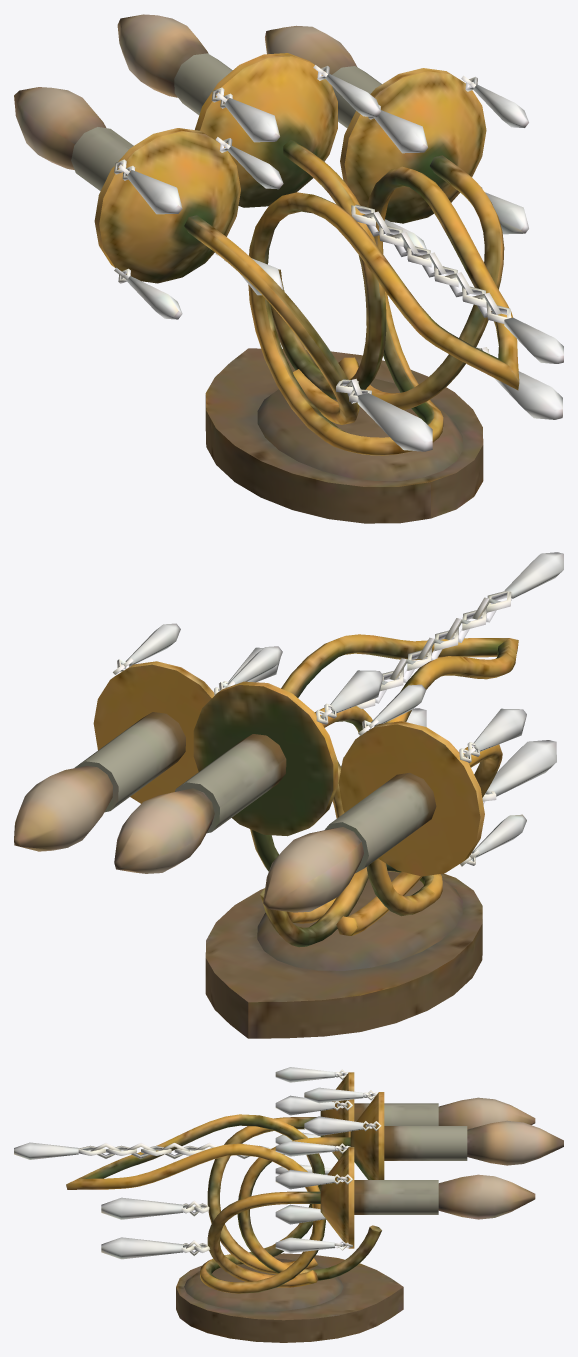
Rendered from SM_Chandelier02_8bf571.glb.
The picture shows the model from 3 angles, top to bottom: view 1: azimuth 30°, elevation 25°; view 2: azimuth 150°, elevation 25°; view 3: azimuth 270°, elevation 25°; orthographic projection. The views are drawn at different scales.
Bounding box in the file's own units: 0.4611 × 0.3887 × 0.9102.
2 materials, 2 textured.
